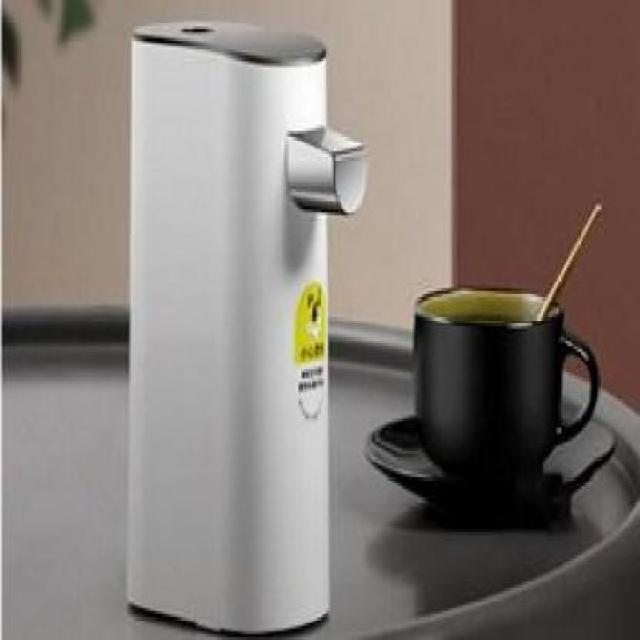cooler: (122, 11, 370, 640)
